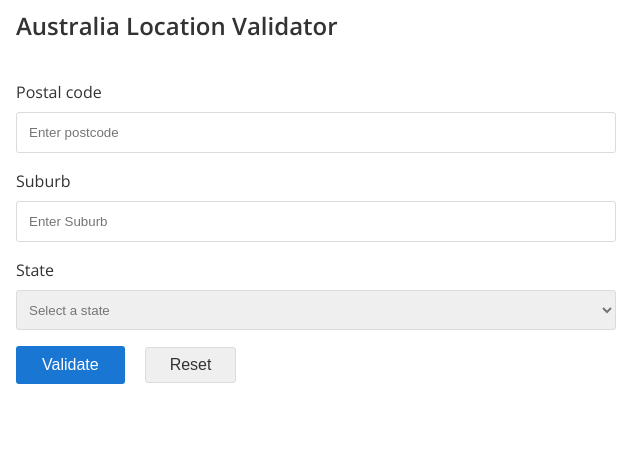
Test: a AddressForm › displays correct error when entered suburb does not match the state
This screenshot has width=633, height=458.
Step 1. Type "6004" into the number field with placeholder "Enter postcode" → [316, 132], box top-left (16, 112), bottom-right (616, 153)
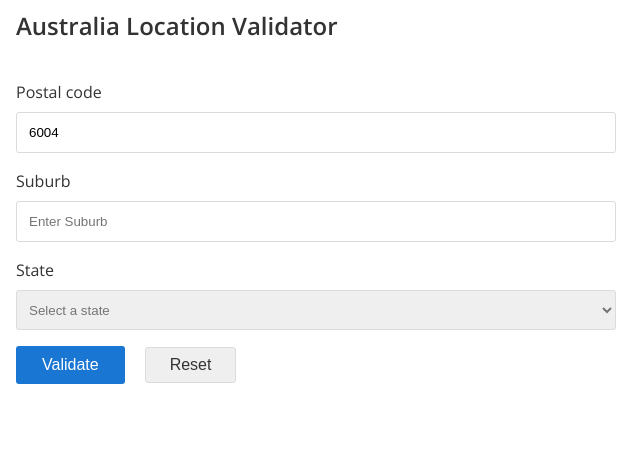
Step 2. Type "East Perth" into the field with placeholder "Enter Suburb" → [316, 222], box top-left (16, 201), bottom-right (616, 242)
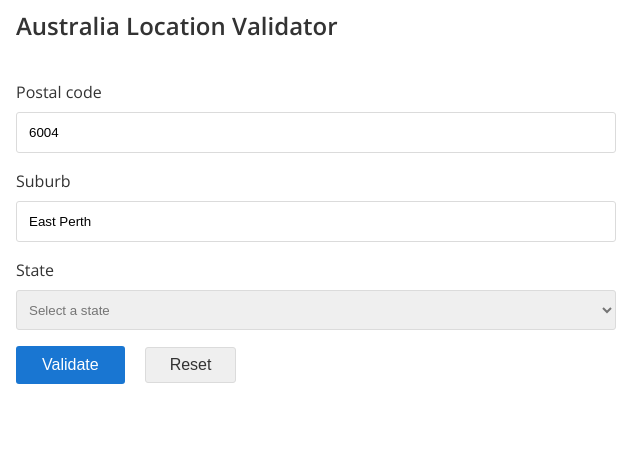
Step 3. Select "New South Wales" in the dropdown with test id "select" → [316, 310], box top-left (16, 290), bottom-right (616, 330)
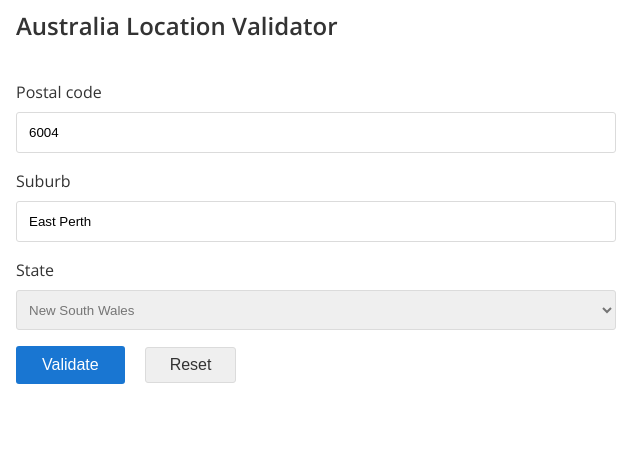
Step 4. Click the button "Validate" → [70, 365], box top-left (16, 346), bottom-right (125, 384)
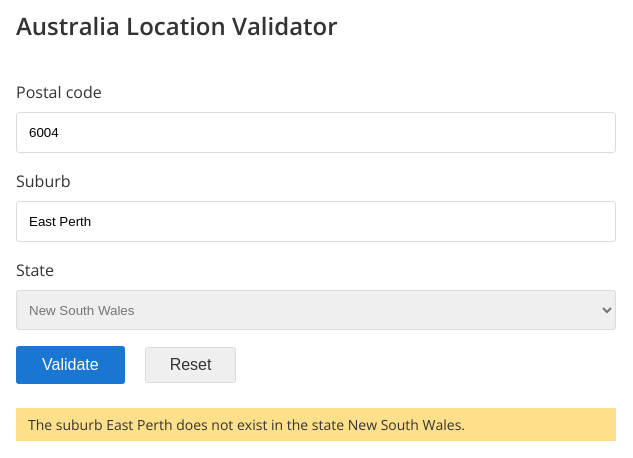
Result: the text "The suburb East Perth does not exist in the state New South Wales." is shown at top-left (16, 408), bottom-right (616, 441)
